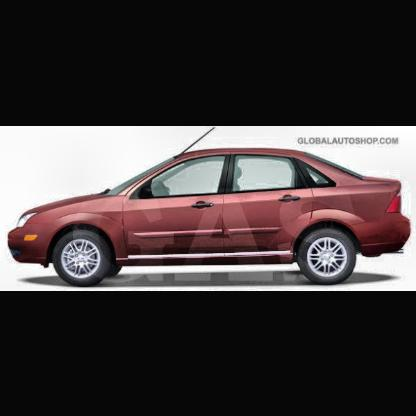Ford Focus Sedan 2007: (8, 128, 413, 288)
